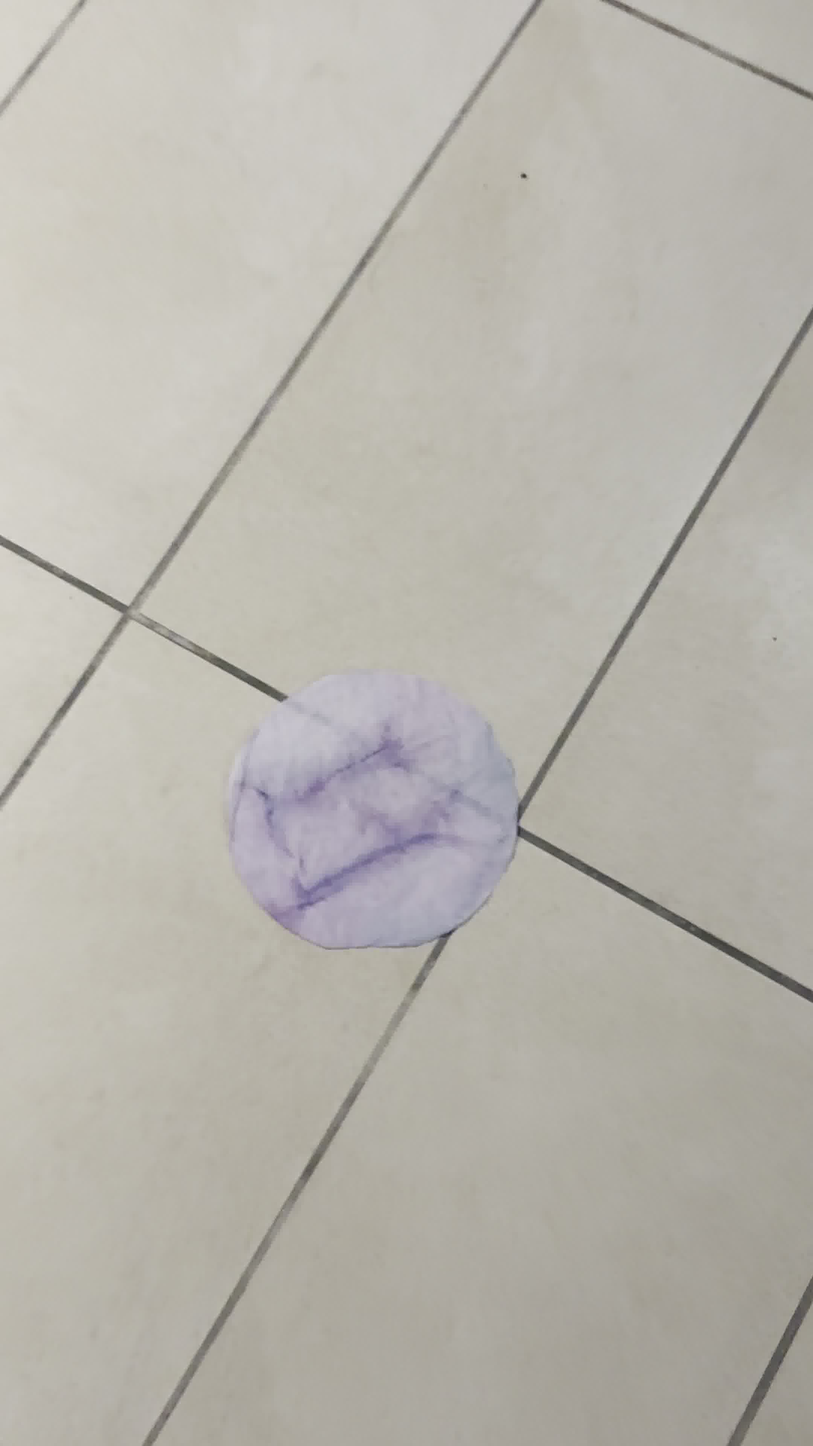Target: (223, 664, 513, 951)
